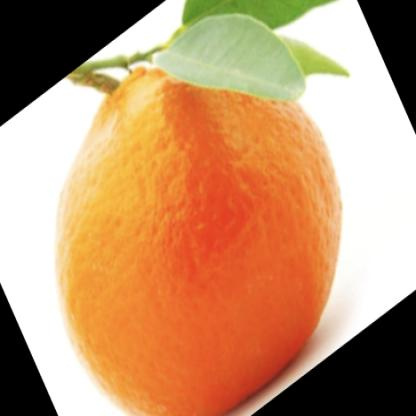fresh: (59, 44, 342, 416)
